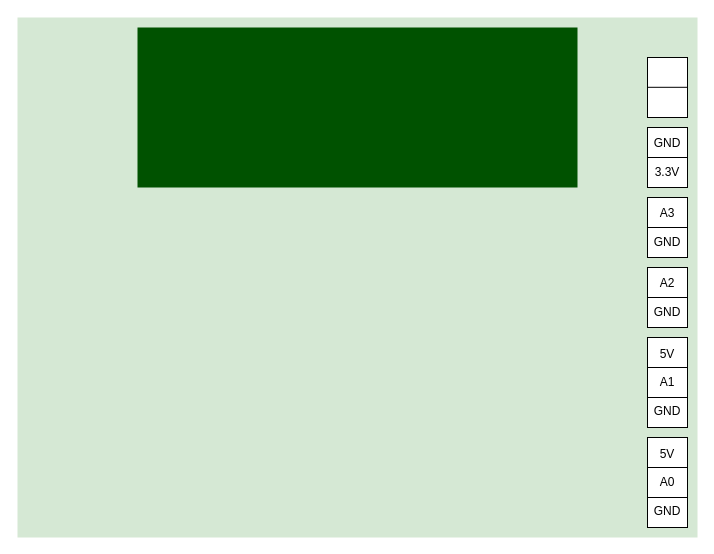
The diagram is 714 pixels wide and 554 high, and some of its shapes have lost their labels. Here are the shapes that lost their labels. From the top down, the centre of each, then its label:
At point (357, 107): "Raspberry Pi Zero".
At point (667, 87): "SDA SCL".
